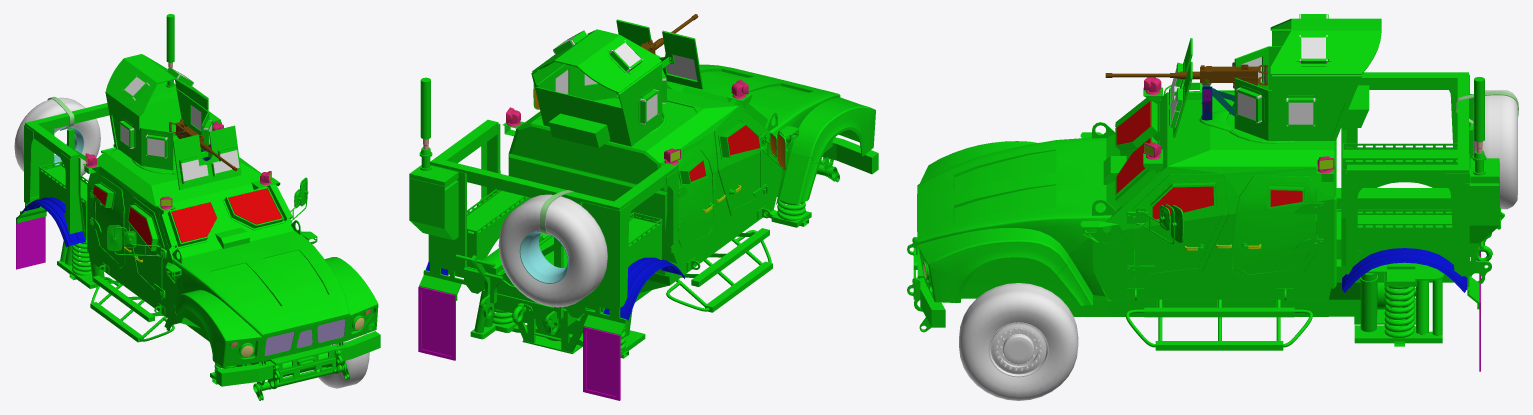
File: Vehicle Color ID.fbx
3 views of the same model, side by side, from view 1: azimuth 30°, elevation 25°; view 2: azimuth 150°, elevation 25°; view 3: azimuth 270°, elevation 25° (orthographic). The views are drawn at different scales.
Parts seen in each view (by area): view 1: Vehicle, Spare Tire_low, Glass, Tire_low, Machine Gun; view 2: Vehicle, Spare Tire_low, Glass, Machine Gun; view 3: Vehicle, Tire_low, Spare Tire_low, Wheel, Machine Gun, Glass.
Boxes of the visible parts, left/top/right/bottom form: Vehicle: left=16, top=14, right=380, bottom=400; Spare Tire_low: left=14, top=97, right=100, bottom=175; Glass: left=120, top=67, right=239, bottom=181; Tire_low: left=313, top=333, right=369, bottom=388; Machine Gun: left=169, top=119, right=237, bottom=171; Vehicle: left=409, top=19, right=878, bottom=400; Spare Tire_low: left=498, top=194, right=607, bottom=307; Glass: left=553, top=30, right=697, bottom=124; Machine Gun: left=626, top=14, right=698, bottom=72; Vehicle: left=907, top=14, right=1518, bottom=371; Tire_low: left=959, top=283, right=1078, bottom=400; Spare Tire_low: left=1473, top=90, right=1517, bottom=209; Wheel: left=988, top=322, right=1048, bottom=377; Machine Gun: left=1105, top=62, right=1267, bottom=120; Glass: left=1170, top=14, right=1327, bottom=127.
Size of the model in its own units: 208 by 243 by 411.
